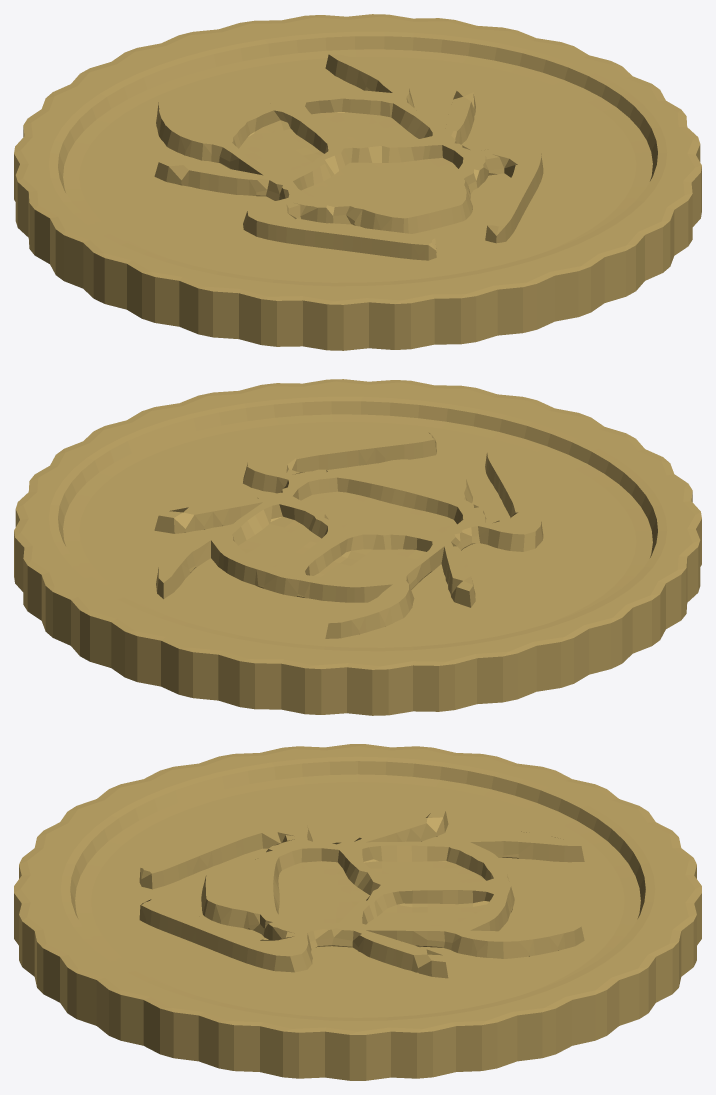
The model's file is Coin.fbx.
3 views of the same model, one above another, from view 1: azimuth 30°, elevation 25°; view 2: azimuth 150°, elevation 25°; view 3: azimuth 270°, elevation 25° (orthographic).
Visible parts, largest first — view 1: Cylinder, Scarabeus; view 2: Cylinder, Scarabeus; view 3: Cylinder, Scarabeus.
Part boxes in pixels (box(x1,y1,x2,y2)): Cylinder: box(14, 14, 701, 350); Scarabeus: box(154, 54, 543, 260); Cylinder: box(14, 379, 701, 715); Scarabeus: box(154, 432, 543, 638); Cylinder: box(14, 744, 701, 1080); Scarabeus: box(139, 810, 584, 978).
Bounding box in the file's own units: 19.85 × 1.58 × 19.85.
